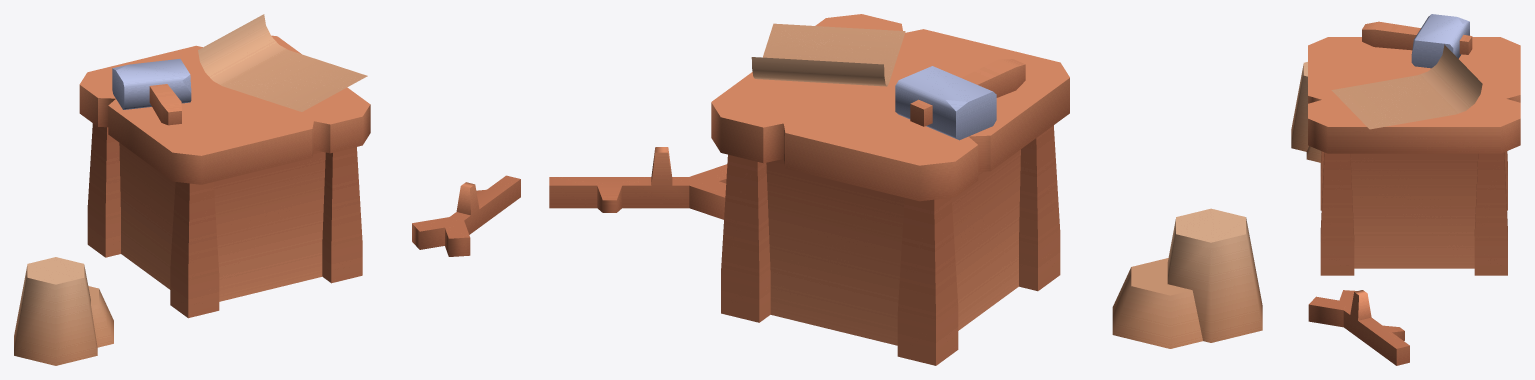
Rendered from craft.glb.
The picture shows the model from 3 angles, left to right: view 1: azimuth 30°, elevation 25°; view 2: azimuth 150°, elevation 25°; view 3: azimuth 270°, elevation 25°; orthographic projection. The views are drawn at different scales.
Visible parts, largest first — view 1: craft; view 2: craft; view 3: craft.
Boxes of the visible parts, box(x1,y1,x2,y2) form: craft: box(14, 14, 520, 365); craft: box(549, 14, 1262, 365); craft: box(1291, 14, 1520, 365).
Bounding box in the file's own units: 7.29 × 2.58 × 2.87.
3 materials, 3 textured.
